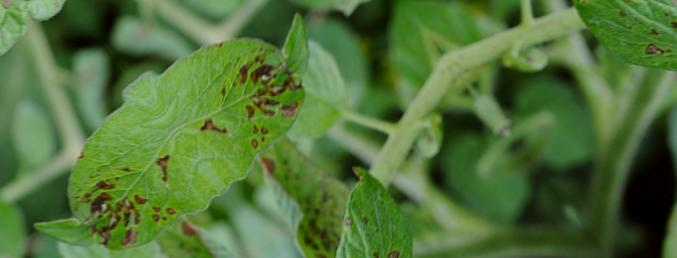Tomato leaf bacterial spot: (133, 0, 353, 188), (285, 173, 506, 258), (26, 0, 278, 9)
